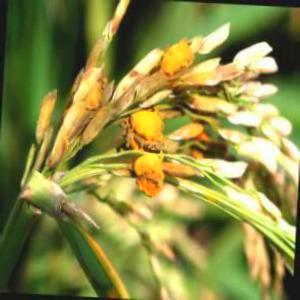Leaf_Scald: (125, 112, 165, 196), (72, 68, 107, 136), (40, 113, 72, 168), (161, 37, 201, 75), (186, 94, 229, 116), (172, 121, 206, 147)
